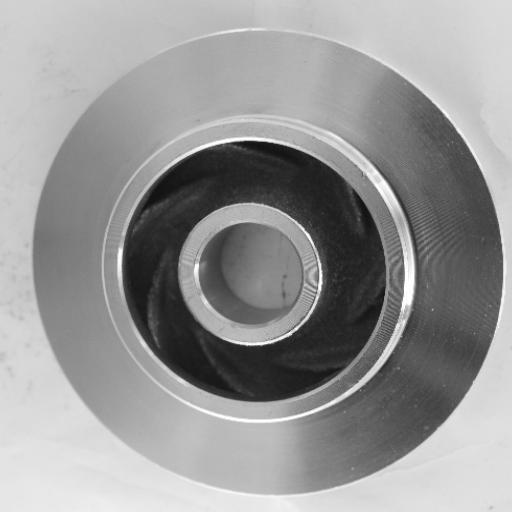polished_casting: (32, 27, 503, 497)
